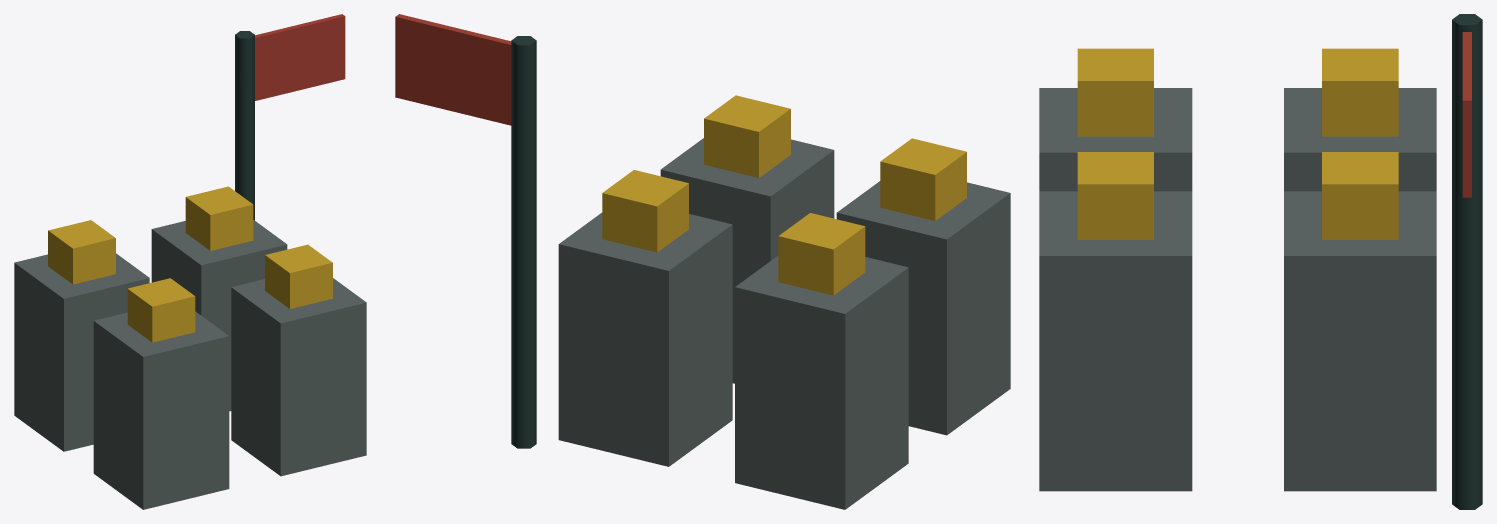
The model's file is ji_guan_jun_tuan.glb.
The picture shows the model from 3 angles, left to right: view 1: azimuth 30°, elevation 25°; view 2: azimuth 150°, elevation 25°; view 3: azimuth 270°, elevation 25°; orthographic projection. The views are drawn at different scales.
Parts seen in each view (by area): view 1: _MeshInstance3D_48, _MeshInstance3D_52, _MeshInstance3D_46, _MeshInstance3D_50, _MeshInstance3D_55, _MeshInstance3D_49, _MeshInstance3D_51, _MeshInstance3D_47, _MeshInstance3D_53, _MeshInstance3D_54; view 2: _MeshInstance3D_50, _MeshInstance3D_46, _MeshInstance3D_48, _MeshInstance3D_52, _MeshInstance3D_54, _MeshInstance3D_55, _MeshInstance3D_47, _MeshInstance3D_49, _MeshInstance3D_51, _MeshInstance3D_53; view 3: _MeshInstance3D_52, _MeshInstance3D_50, _MeshInstance3D_54, _MeshInstance3D_48, _MeshInstance3D_46, _MeshInstance3D_47, _MeshInstance3D_49, _MeshInstance3D_51, _MeshInstance3D_53, _MeshInstance3D_55.
Boxes of the visible parts, x1,y1,x2,y2 form: _MeshInstance3D_48: (93, 311, 229, 509); _MeshInstance3D_52: (231, 278, 366, 476); _MeshInstance3D_46: (14, 253, 149, 451); _MeshInstance3D_50: (151, 220, 287, 411); _MeshInstance3D_55: (255, 14, 345, 100); _MeshInstance3D_49: (127, 278, 195, 342); _MeshInstance3D_51: (185, 186, 253, 250); _MeshInstance3D_47: (48, 220, 115, 284); _MeshInstance3D_53: (265, 244, 332, 308); _MeshInstance3D_54: (235, 31, 254, 220); _MeshInstance3D_50: (558, 212, 732, 466); _MeshInstance3D_46: (735, 256, 908, 509); _MeshInstance3D_48: (836, 181, 1010, 435); _MeshInstance3D_52: (660, 138, 834, 383); _MeshInstance3D_54: (511, 36, 536, 448); _MeshInstance3D_55: (395, 14, 511, 125); _MeshInstance3D_47: (778, 213, 865, 295); _MeshInstance3D_49: (880, 138, 966, 220); _MeshInstance3D_51: (602, 170, 688, 252); _MeshInstance3D_53: (704, 95, 790, 177); _MeshInstance3D_52: (1039, 191, 1192, 491); _MeshInstance3D_50: (1284, 191, 1436, 491); _MeshInstance3D_54: (1452, 14, 1482, 509); _MeshInstance3D_48: (1039, 88, 1192, 191); _MeshInstance3D_46: (1284, 88, 1436, 191); _MeshInstance3D_47: (1322, 48, 1398, 136); _MeshInstance3D_49: (1077, 48, 1153, 136); _MeshInstance3D_51: (1322, 152, 1398, 239); _MeshInstance3D_53: (1077, 152, 1153, 239); _MeshInstance3D_55: (1462, 32, 1471, 197).
Size of the model in its own units: 0.79 by 0.7 by 0.58.
